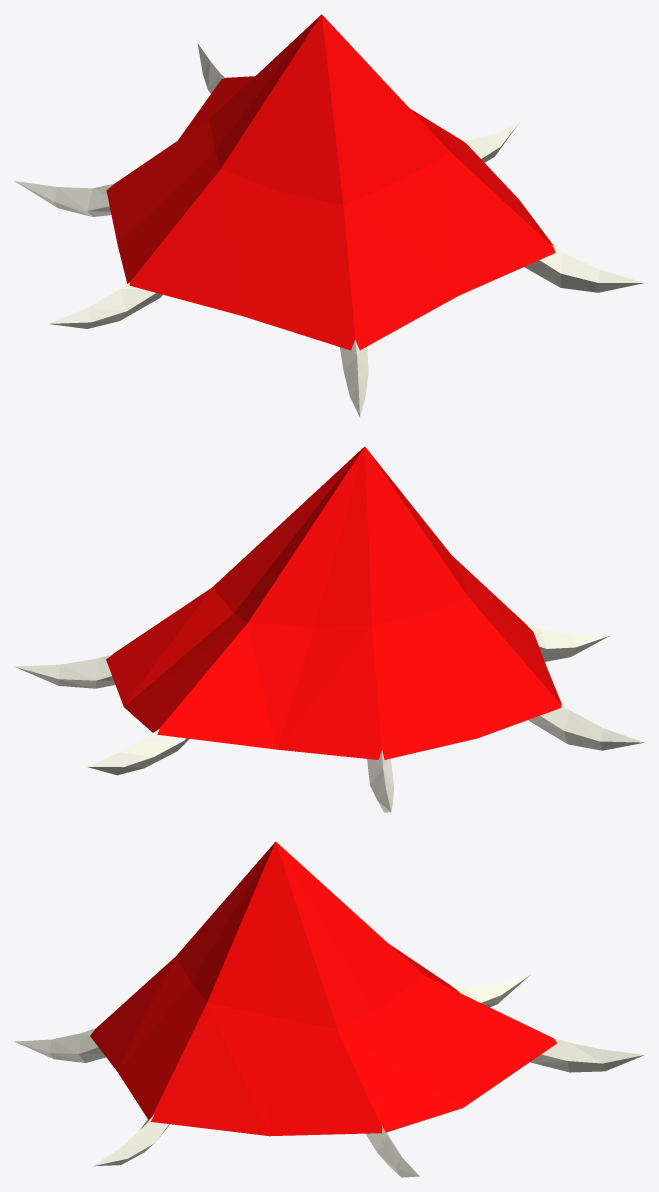
The model's file is Prop_Building_Savage_Tribal_Roof_Cloth_Bone_Peaked_01.FBX.
3 views of the same model, one above another, from view 1: azimuth 30°, elevation 25°; view 2: azimuth 150°, elevation 25°; view 3: azimuth 270°, elevation 25° (orthographic). The views are drawn at different scales.
Parts seen in each view (by area): view 1: Prop_Building_Savage_Tribal_Roof_Cloth_Bone_Peaked_01; view 2: Prop_Building_Savage_Tribal_Roof_Cloth_Bone_Peaked_01; view 3: Prop_Building_Savage_Tribal_Roof_Cloth_Bone_Peaked_01.
Boxes of the visible parts, left/top/right/bottom form: Prop_Building_Savage_Tribal_Roof_Cloth_Bone_Peaked_01: left=14, top=14, right=643, bottom=416; Prop_Building_Savage_Tribal_Roof_Cloth_Bone_Peaked_01: left=14, top=446, right=644, bottom=812; Prop_Building_Savage_Tribal_Roof_Cloth_Bone_Peaked_01: left=15, top=841, right=644, bottom=1177.
Size of the model in its own units: 8593 by 4167 by 9289.
